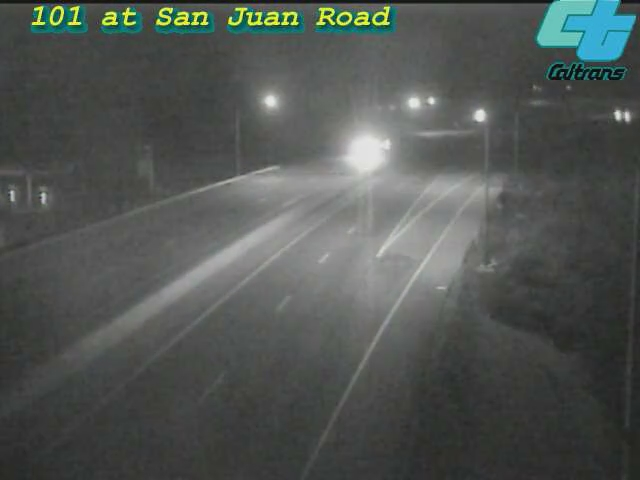vehicle: (337, 128, 387, 178), (455, 91, 505, 141), (594, 90, 640, 140)
